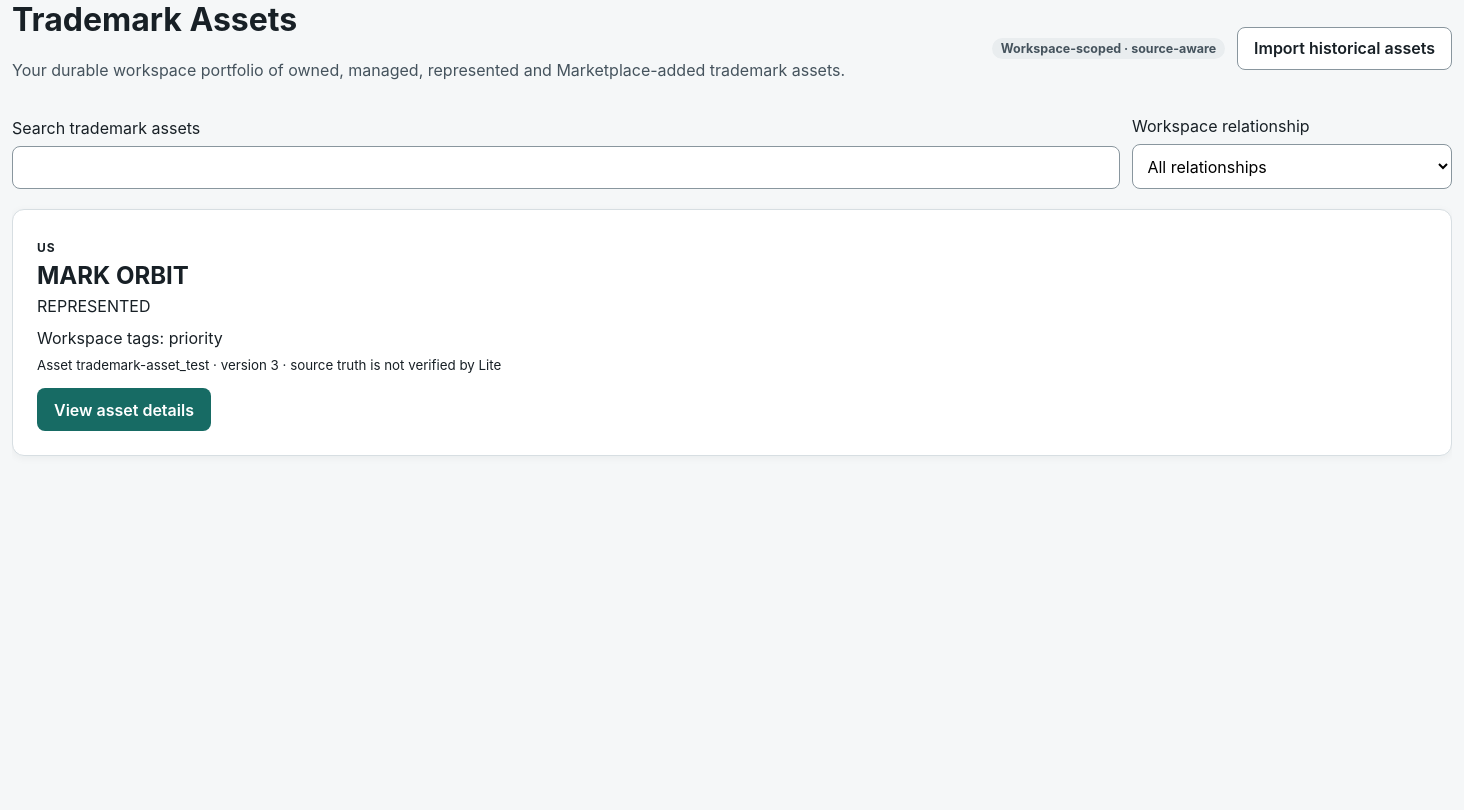
Test case: TrademarkAssetPortfolio › reflects a Commerce Profile from a durable detail reload
Click the button "View asset details": (124, 410) [37, 388, 211, 431]
(page scrolled)
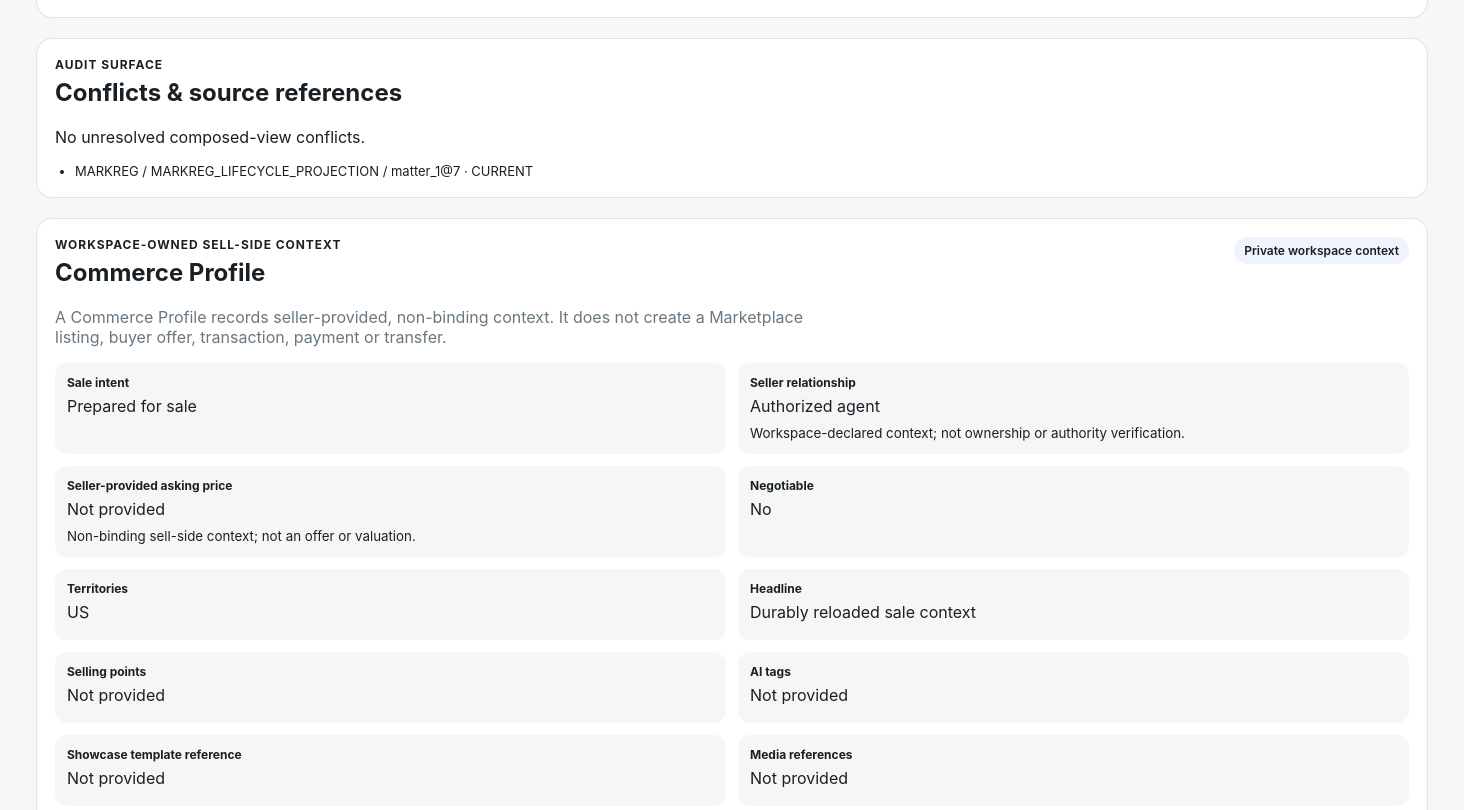
Result: the text "Durably reloaded sale context" is shown at [750, 602, 976, 622]
Result: the text "Authorized agent" is shown at [750, 396, 880, 416]
